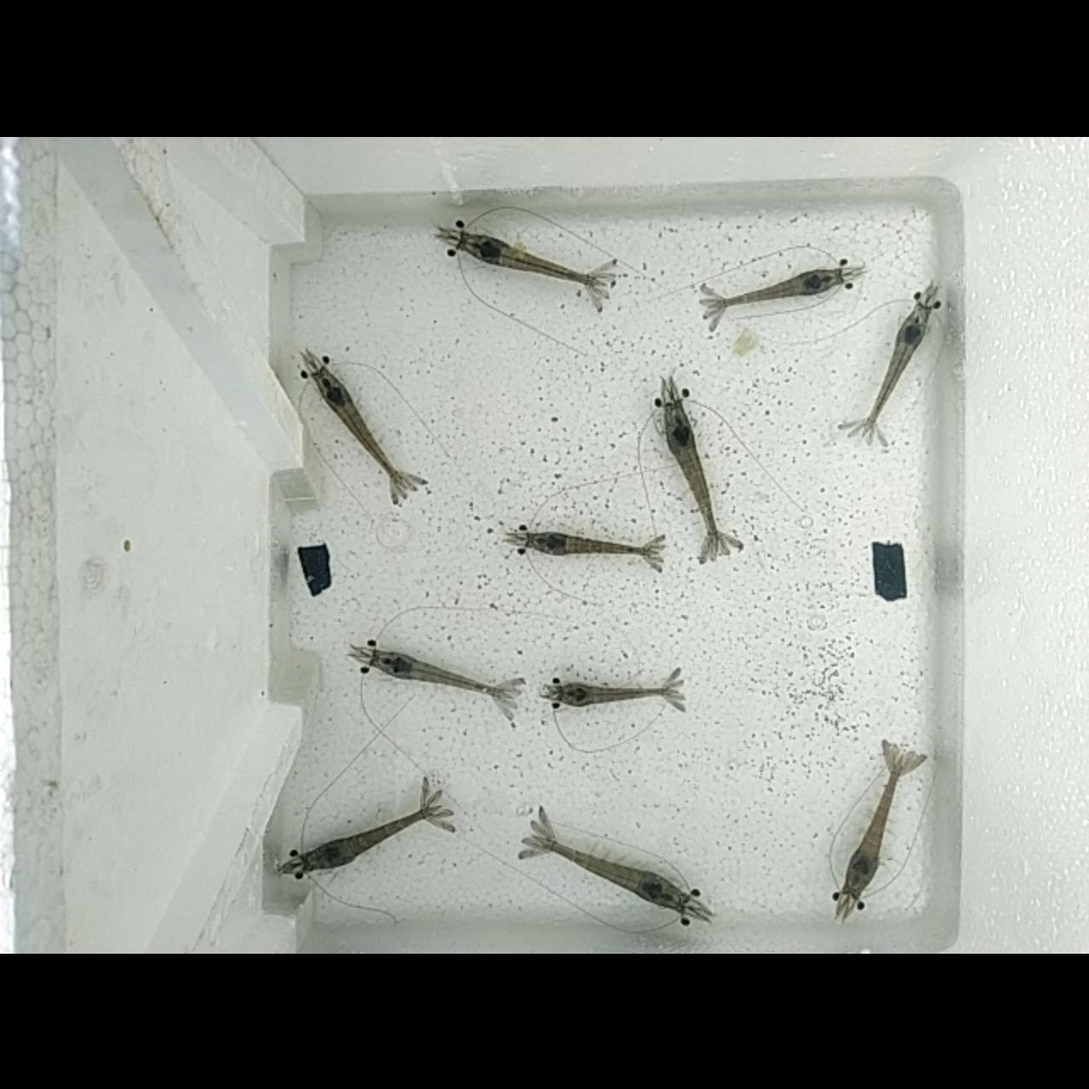box: (873, 543, 904, 599), (298, 546, 330, 590)
top_shrimp: (533, 839, 682, 910), (316, 371, 405, 488), (303, 807, 439, 869), (864, 308, 926, 432), (665, 403, 718, 546), (844, 761, 900, 895), (463, 233, 602, 286), (374, 650, 509, 694), (715, 269, 839, 308), (527, 533, 652, 555), (558, 684, 676, 704)
